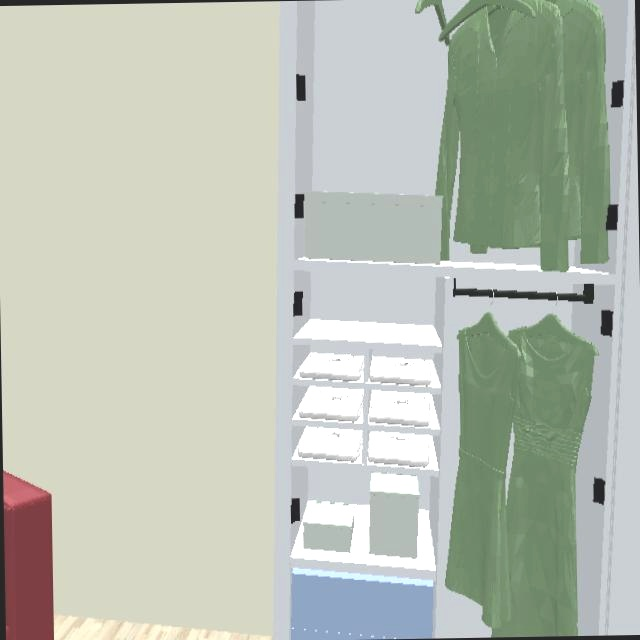sofa: (3, 471, 54, 640)
wardrobe: (272, 0, 640, 640)
